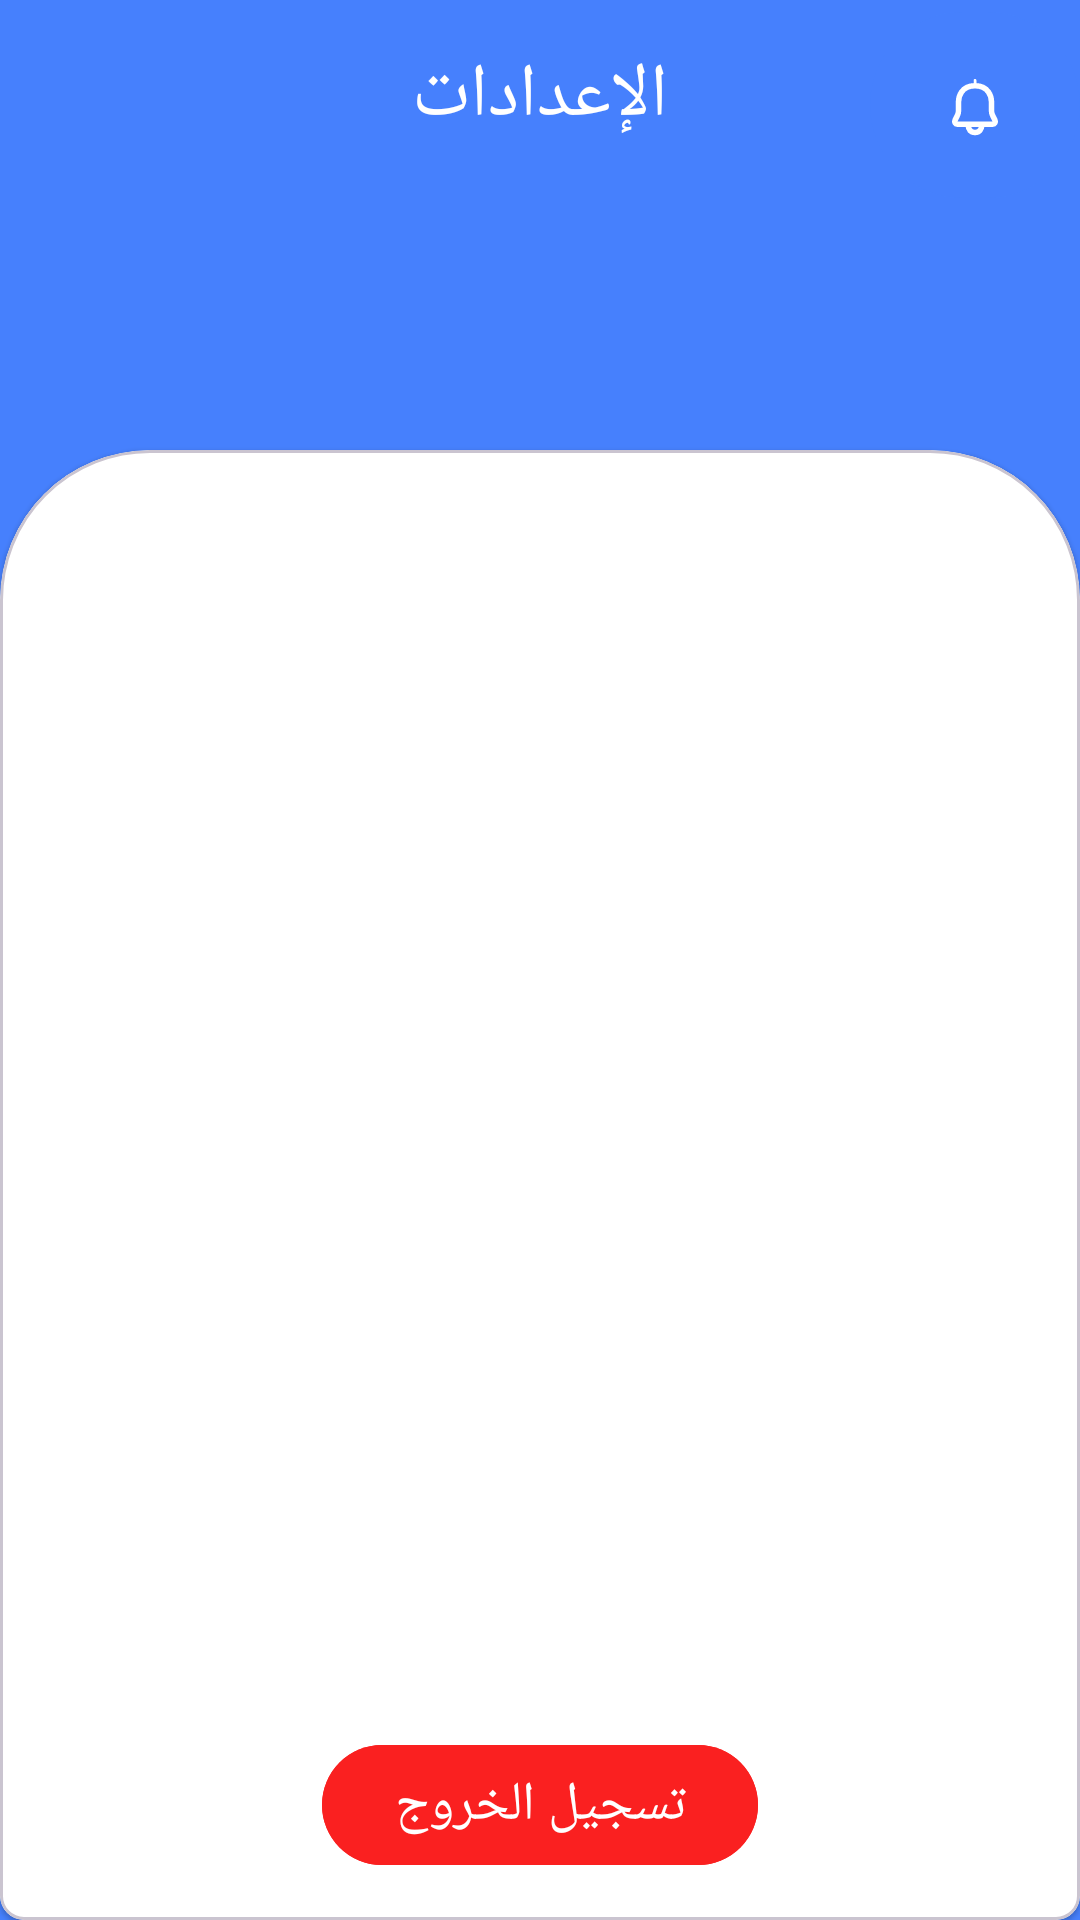

Where icons sit on this 1080w x 1920h app screen, as (x1, y1, x2, y2):
notification: (952, 79, 998, 136)
